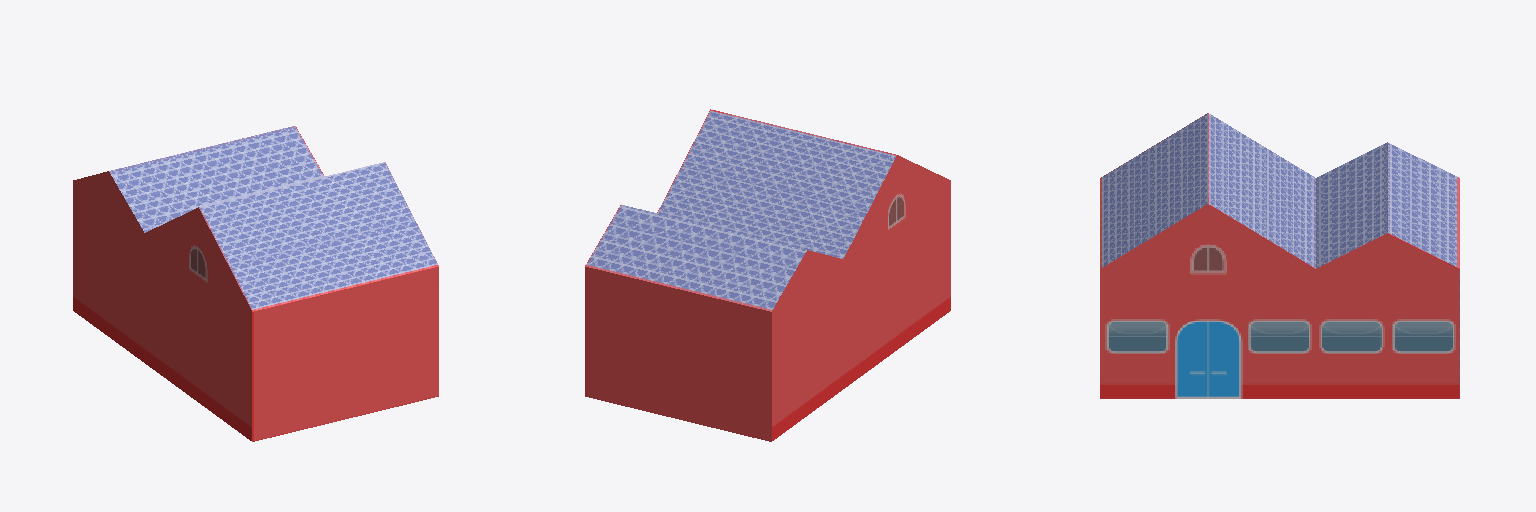
3 views of the same model, side by side, from view 1: azimuth 30°, elevation 25°; view 2: azimuth 150°, elevation 25°; view 3: azimuth 270°, elevation 25° (orthographic).
Visible parts, largest first — view 1: Cube.004; view 2: Cube.004; view 3: Cube.004.
Part boxes in pixels (left/top/right/bottom): Cube.004: left=73, top=126, right=438, bottom=441; Cube.004: left=585, top=109, right=950, bottom=441; Cube.004: left=1100, top=113, right=1459, bottom=398.
Bounding box in the file's own units: 3 × 3 × 5.
1 materials, 1 textured.